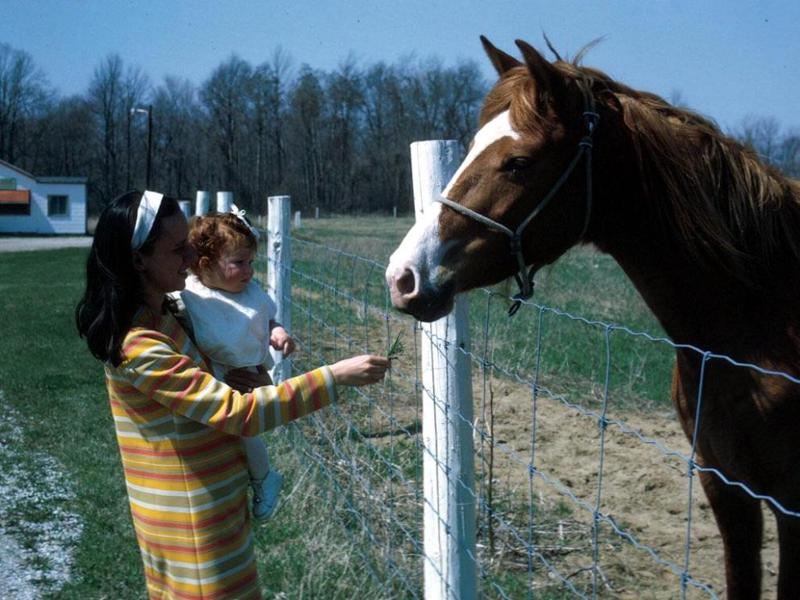person: (81, 191, 394, 600)
